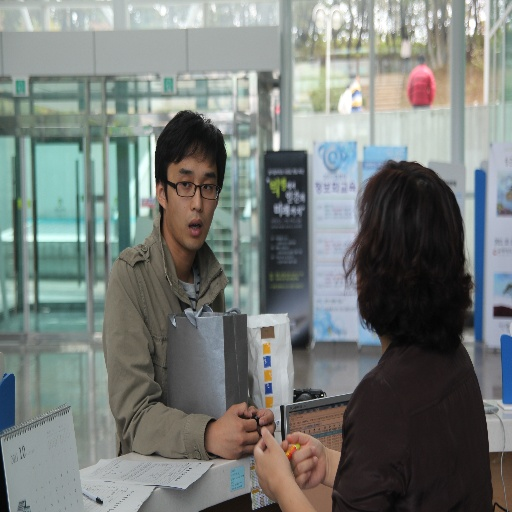hand: (252, 425, 295, 503), (208, 410, 270, 463), (279, 431, 327, 491), (249, 402, 276, 439)
